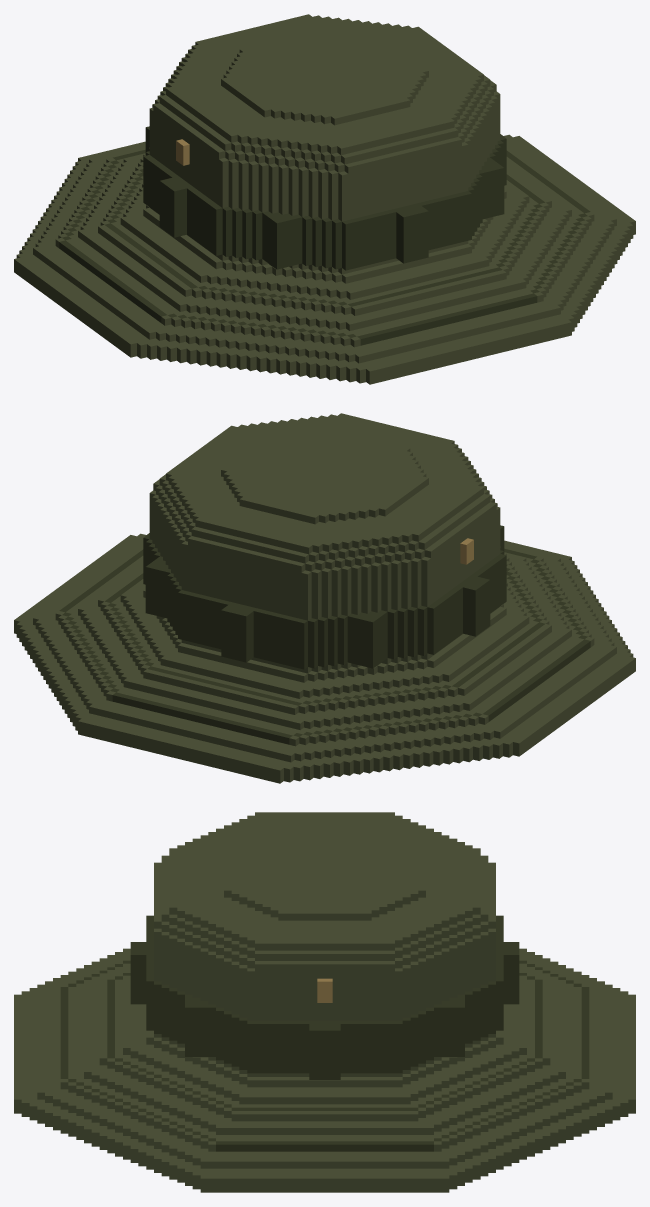
Rendered from hat_boonie.glb.
The picture shows the model from 3 angles, top to bottom: view 1: azimuth 30°, elevation 25°; view 2: azimuth 150°, elevation 25°; view 3: azimuth 270°, elevation 25°; orthographic projection. The views are drawn at different scales.
Parts seen in each view (by area): view 1: hat_boonie:compound; view 2: hat_boonie:compound; view 3: hat_boonie:compound.
Boxes of the visible parts, bbox=[...] form: hat_boonie:compound: bbox=[14, 14, 635, 384]; hat_boonie:compound: bbox=[14, 413, 635, 783]; hat_boonie:compound: bbox=[14, 812, 635, 1192].
Size of the model in its own units: 0.32 by 0.108 by 0.32.
